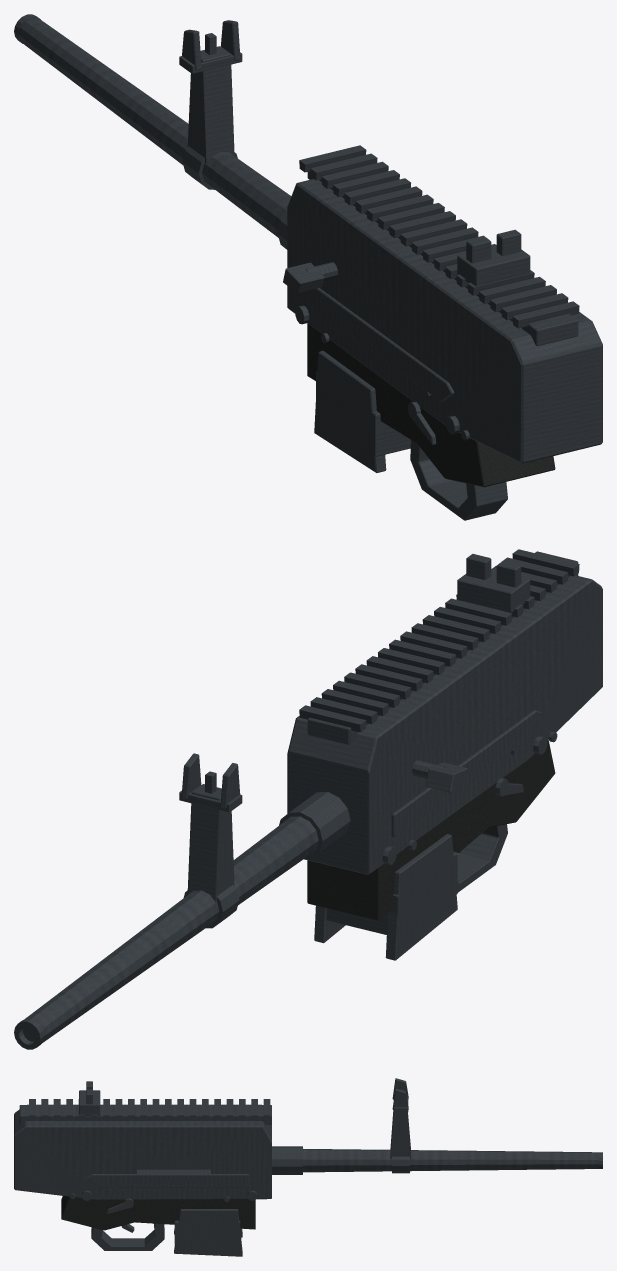
File: weapon_scarl.glb
3 renders of one model, top to bottom at view 1: azimuth 30°, elevation 25°; view 2: azimuth 150°, elevation 25°; view 3: azimuth 270°, elevation 25°, orthographic. The views are drawn at different scales.
Parts seen in each view (by area): view 1: body_LOD0, action_LOD0; view 2: body_LOD0, action_LOD0; view 3: body_LOD0.
Part boxes in pixels (left/top/right/bottom): body_LOD0: left=14, top=14, right=602, bottom=520; action_LOD0: left=283, top=262, right=337, bottom=292; body_LOD0: left=14, top=549, right=602, bottom=1049; action_LOD0: left=412, top=760, right=467, bottom=792; body_LOD0: left=14, top=1078, right=602, bottom=1256.
Size of what is drawn, in the model's own units: 0.148 by 0.3207 by 1.05.
Materials: 1 (1 with a texture image).
